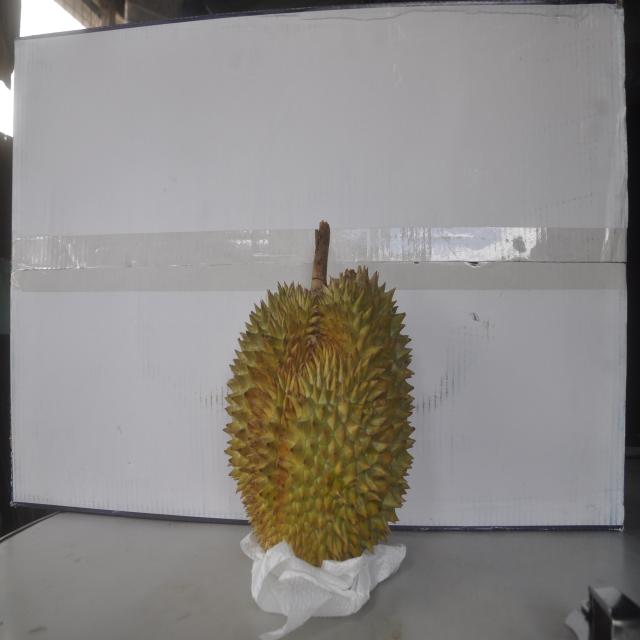mature: (224, 244, 417, 568)
